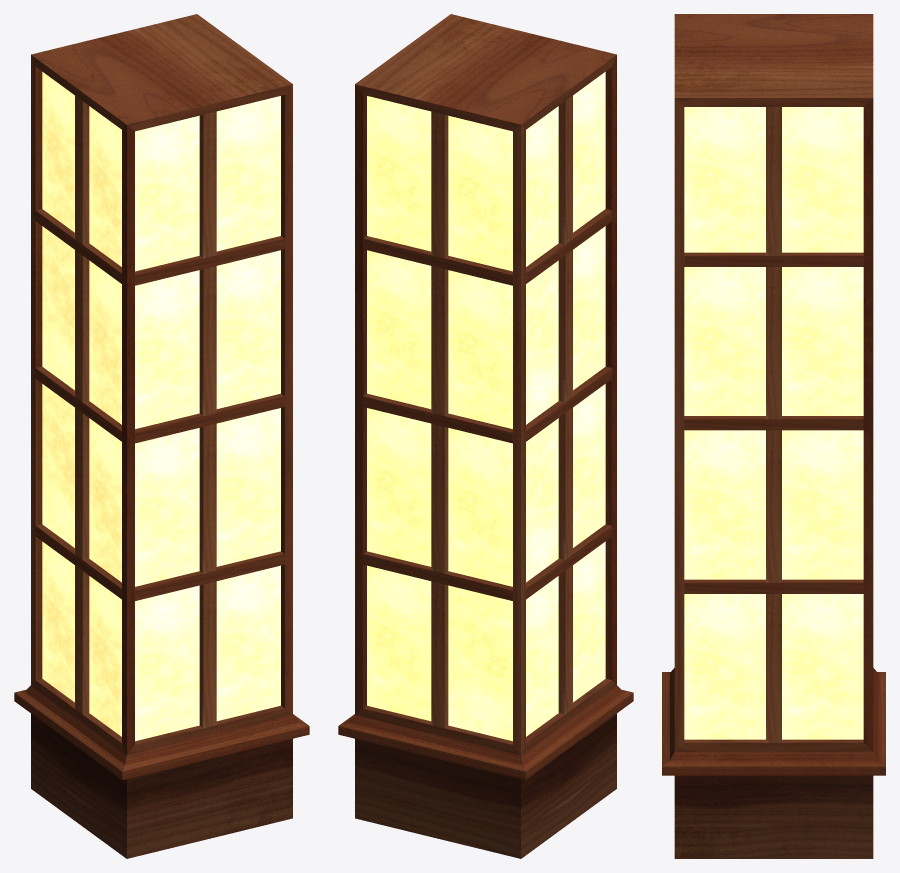
The model's file is NNJ0310005.fbx.
3 renders of one model, left to right at view 1: azimuth 30°, elevation 25°; view 2: azimuth 150°, elevation 25°; view 3: azimuth 270°, elevation 25°, orthographic. The views are drawn at different scales.
Visible parts, largest first — view 1: smNNJ0310005; view 2: smNNJ0310005; view 3: smNNJ0310005.
Boxes of the visible parts, x1,y1,x2,y2 form: smNNJ0310005: [14, 14, 309, 858]; smNNJ0310005: [338, 14, 633, 858]; smNNJ0310005: [662, 14, 885, 858].
Size of the model in its own units: 53.4 by 200 by 53.4.
Materials: 1 (1 with a texture image).
